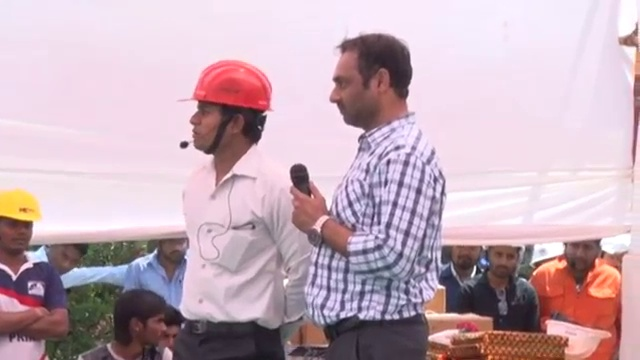helmet: (543, 319, 613, 357), (0, 196, 43, 225), (528, 239, 564, 271)
helmet_off: (322, 33, 419, 133), (111, 296, 169, 353), (41, 241, 90, 282), (156, 305, 185, 359), (566, 235, 606, 274), (152, 234, 187, 273), (488, 243, 523, 280), (450, 242, 480, 271)
helmet_on: (170, 54, 288, 172), (0, 197, 40, 255)
person: (288, 27, 441, 356), (168, 61, 325, 348), (0, 191, 69, 359), (537, 233, 621, 345), (78, 287, 174, 360), (461, 242, 540, 327), (129, 231, 193, 310), (436, 243, 487, 312)
